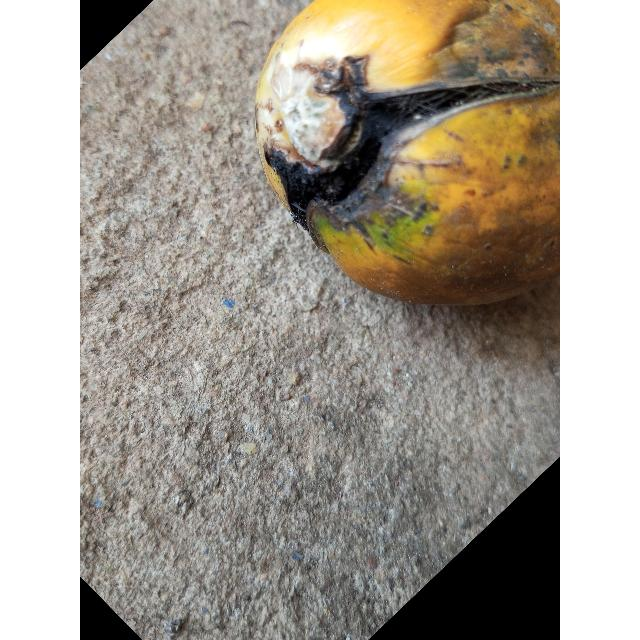damaged: (254, 0, 560, 310)
